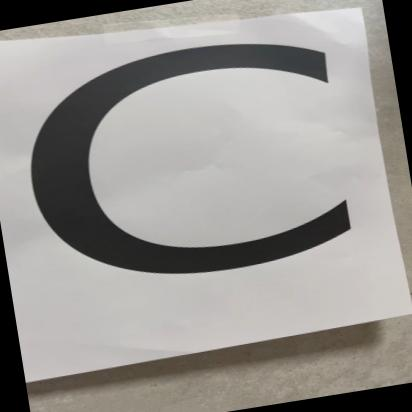seat: (0, 0, 403, 384)
